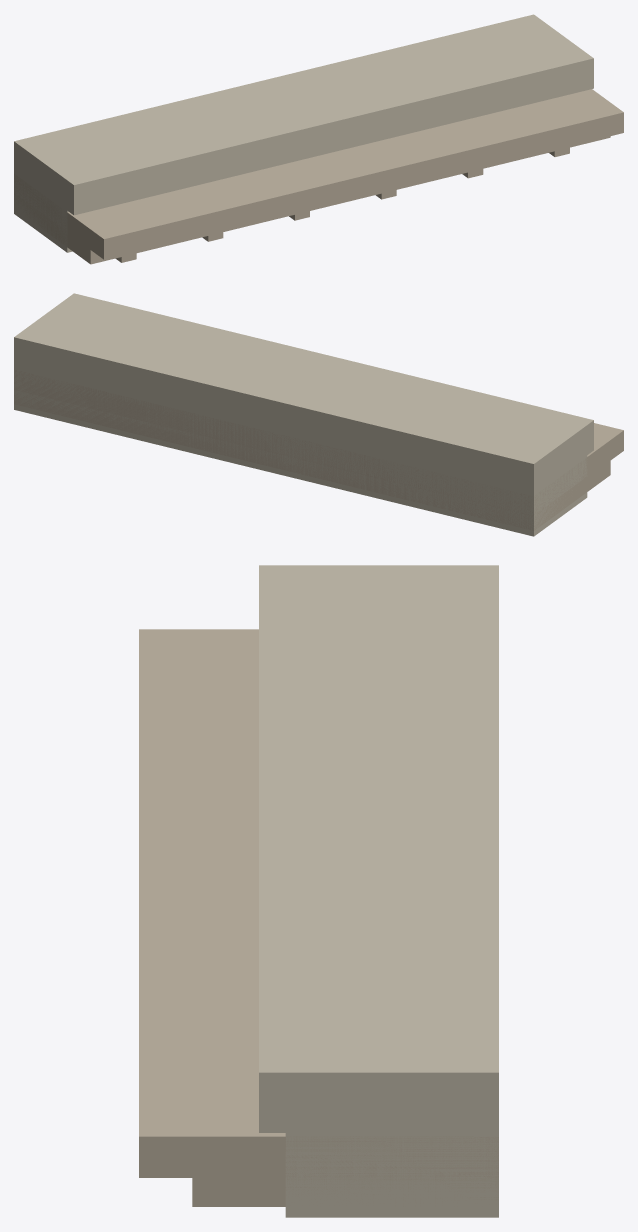
The model's file is cittaCremaTetto.glb.
3 renders of one model, top to bottom at view 1: azimuth 30°, elevation 25°; view 2: azimuth 150°, elevation 25°; view 3: azimuth 270°, elevation 25°, orthographic. The views are drawn at different scales.
Visible parts, largest first — view 1: cittaCremaTetto_cittaCrema, cittaCremaTetto_stone; view 2: cittaCremaTetto_cittaCrema, cittaCremaTetto_stone; view 3: cittaCremaTetto_cittaCrema, cittaCremaTetto_stone.
Boxes of the visible parts, left/top/right/bottom form: cittaCremaTetto_cittaCrema: left=14, top=14, right=593, bottom=252; cittaCremaTetto_stone: left=14, top=89, right=623, bottom=264; cittaCremaTetto_cittaCrema: left=14, top=293, right=593, bottom=536; cittaCremaTetto_stone: left=14, top=369, right=623, bottom=530; cittaCremaTetto_cittaCrema: left=259, top=565, right=498, bottom=1217; cittaCremaTetto_stone: left=139, top=629, right=498, bottom=1206.
Size of the model in its own units: 9 by 1.29 by 2.7.
